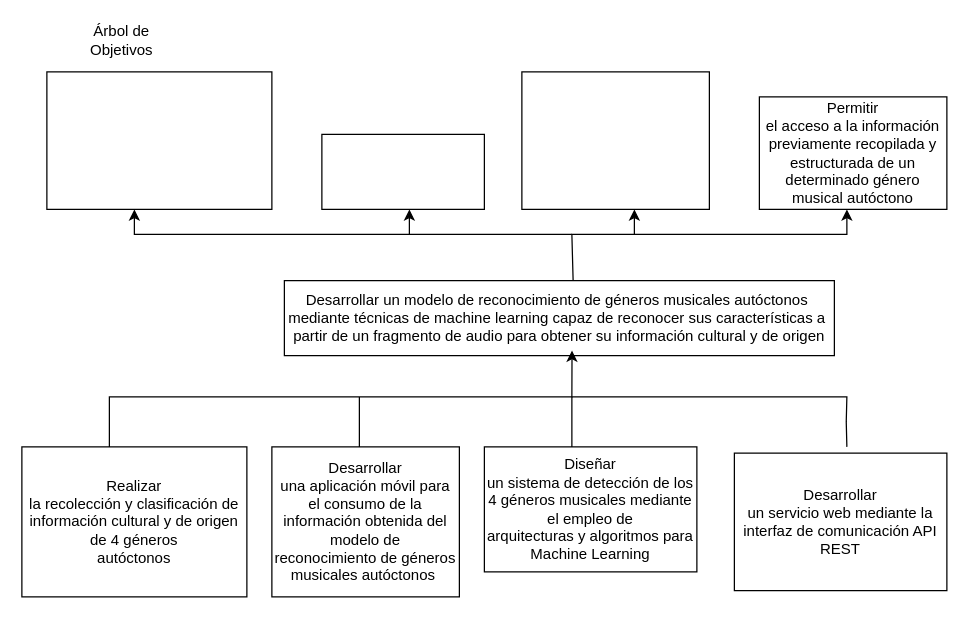
Some shapes in this 969 by 619 pixel diagram are drawn without their labels. The box of each missing label's shape, as (x1, y1, x2, y2) in pixels:
acceso rápido a la información inherente a un género musical autóctono: (321, 133, 484, 209)
contar con la información estructurada y de acceso rápido: (46, 71, 272, 209)
reconocimiento y posterior clasificación: (521, 71, 709, 209)
